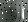person: (18, 5, 24, 21)
